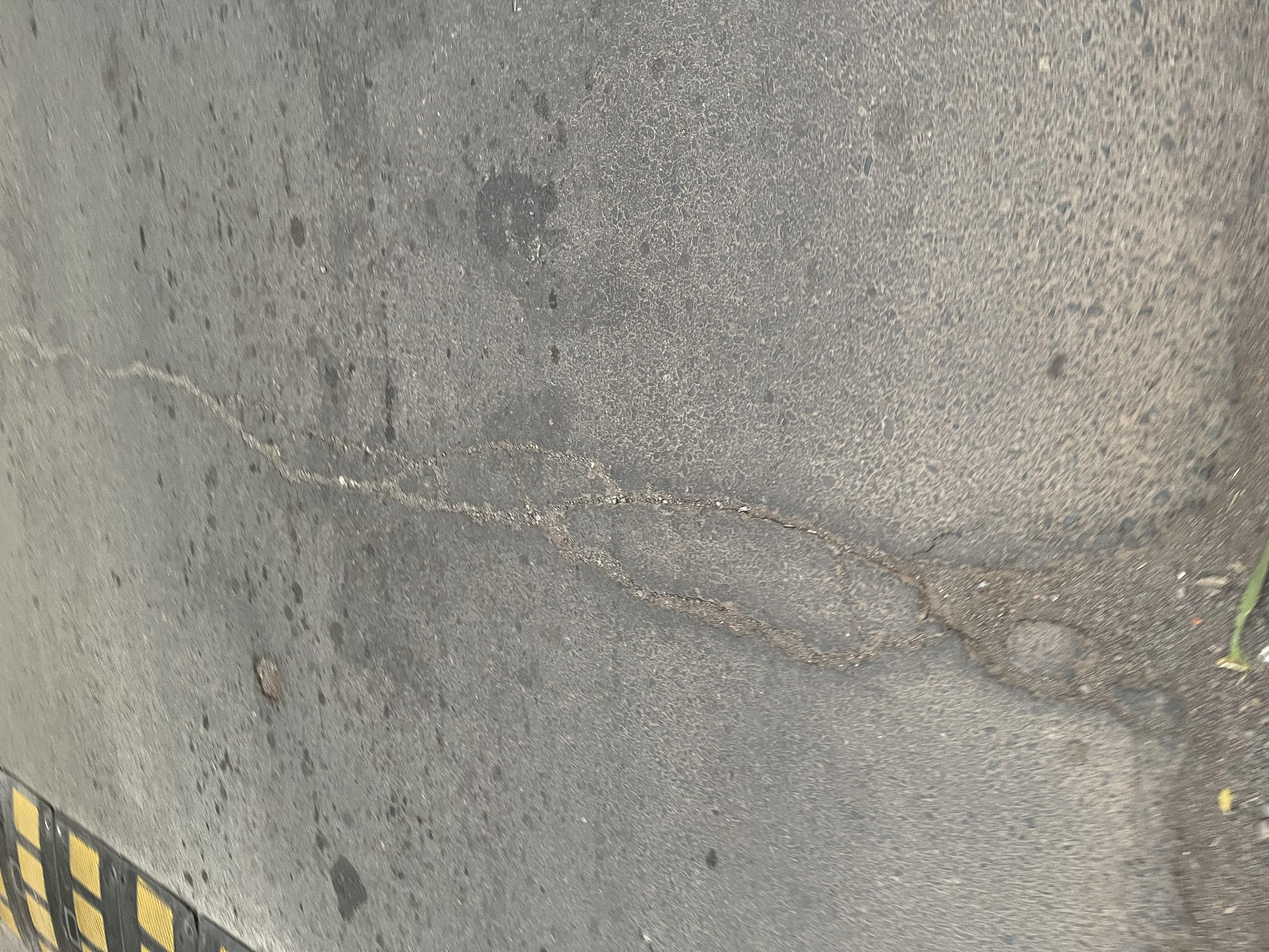BACHE: (927, 159, 1269, 952)
GRIETA: (0, 327, 493, 521), (541, 517, 949, 671), (495, 493, 929, 585), (228, 395, 626, 491)
